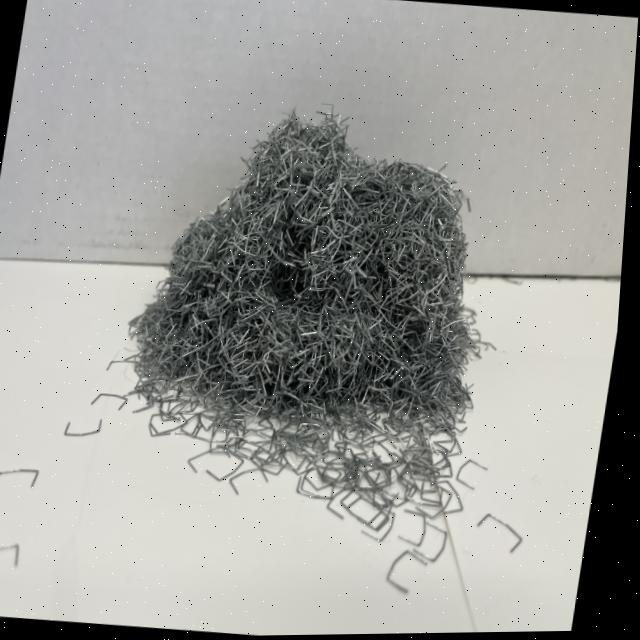staples: (110, 85, 521, 445)
